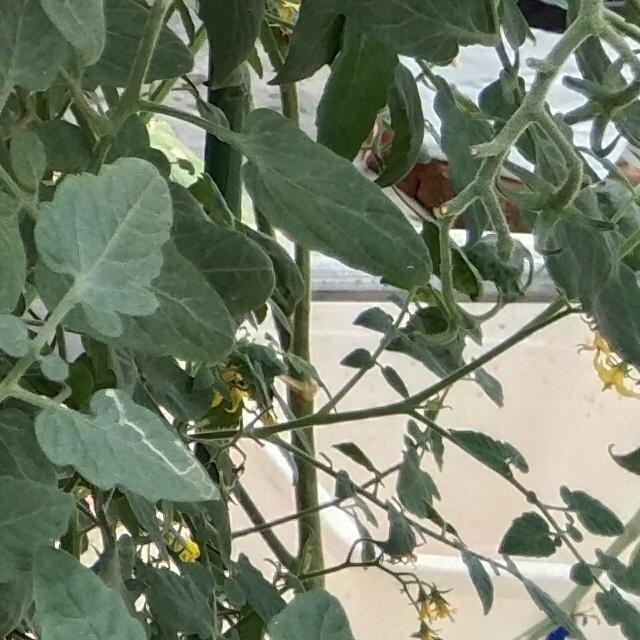Healthy: (238, 105, 436, 291), (34, 152, 178, 342), (31, 540, 146, 640), (313, 39, 399, 163)
Leaf_Miner: (31, 383, 225, 506)
